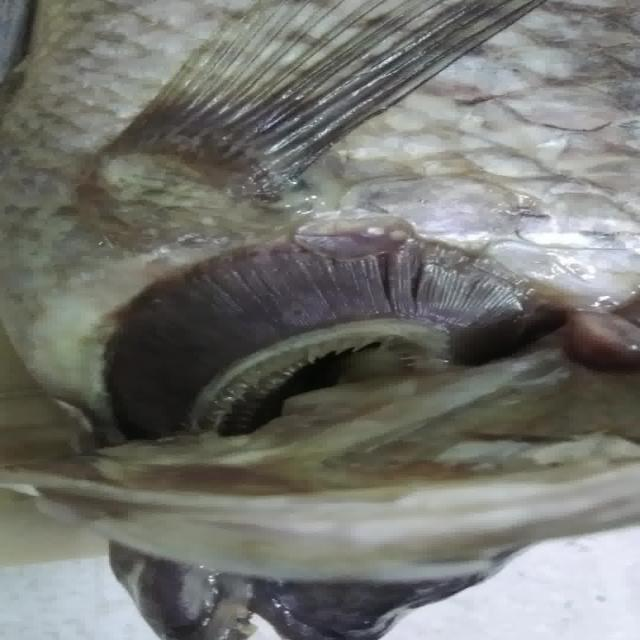Non-Fresh: (77, 204, 543, 432)
